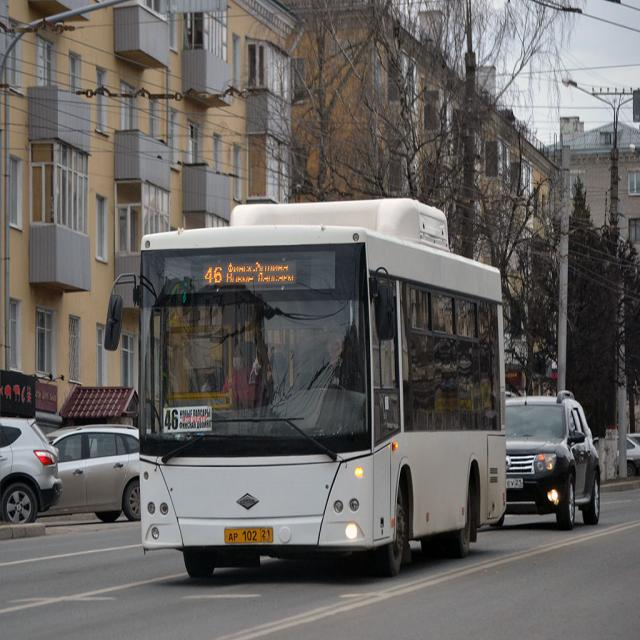number-of-bus: (165, 409, 179, 435)
